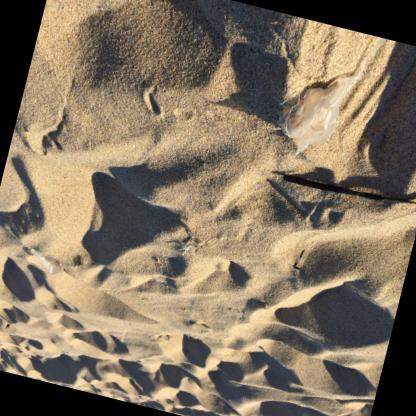Plastic: (276, 36, 385, 156), (282, 173, 416, 203), (30, 247, 62, 273)
